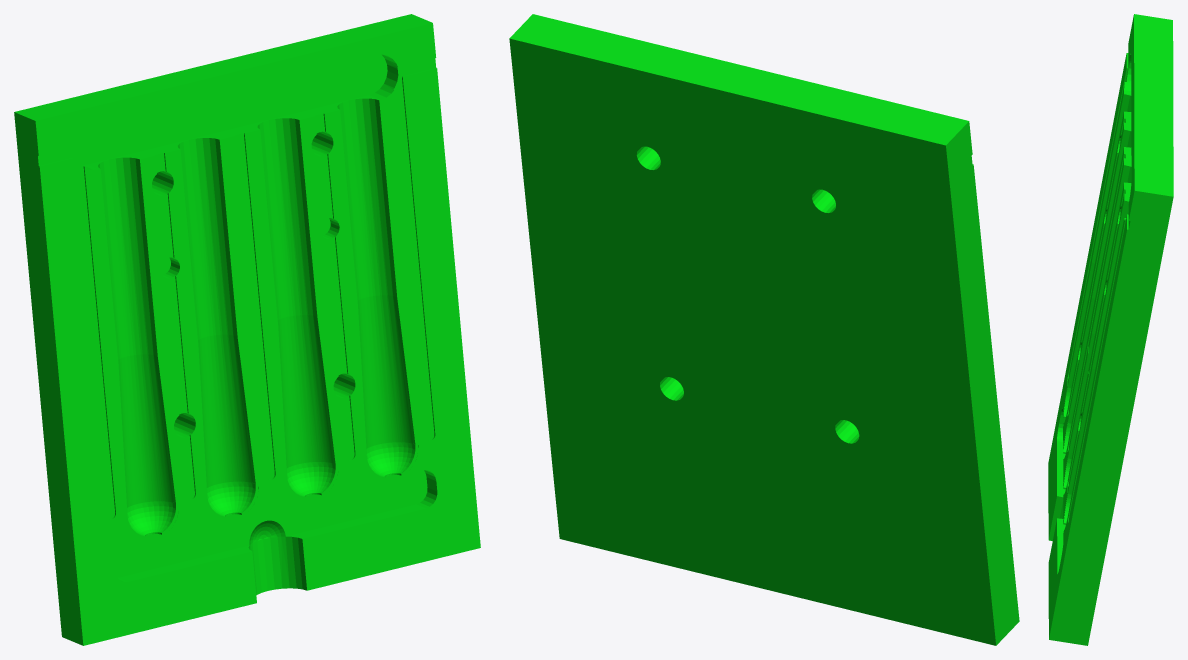
The model's file is tube-mold.glb.
The picture shows the model from 3 angles, left to right: view 1: azimuth 30°, elevation 25°; view 2: azimuth 150°, elevation 25°; view 3: azimuth 270°, elevation 25°; orthographic projection. The views are drawn at different scales.
Visible parts, largest first — view 1: tube母模; view 2: tube母模; view 3: tube母模.
Part boxes in pixels (x1,y1,x2,y2): tube母模: (14, 14, 480, 645); tube母模: (509, 14, 1019, 645); tube母模: (1048, 14, 1173, 645).
Size of the model in its own units: 127 by 152 by 37.91.
